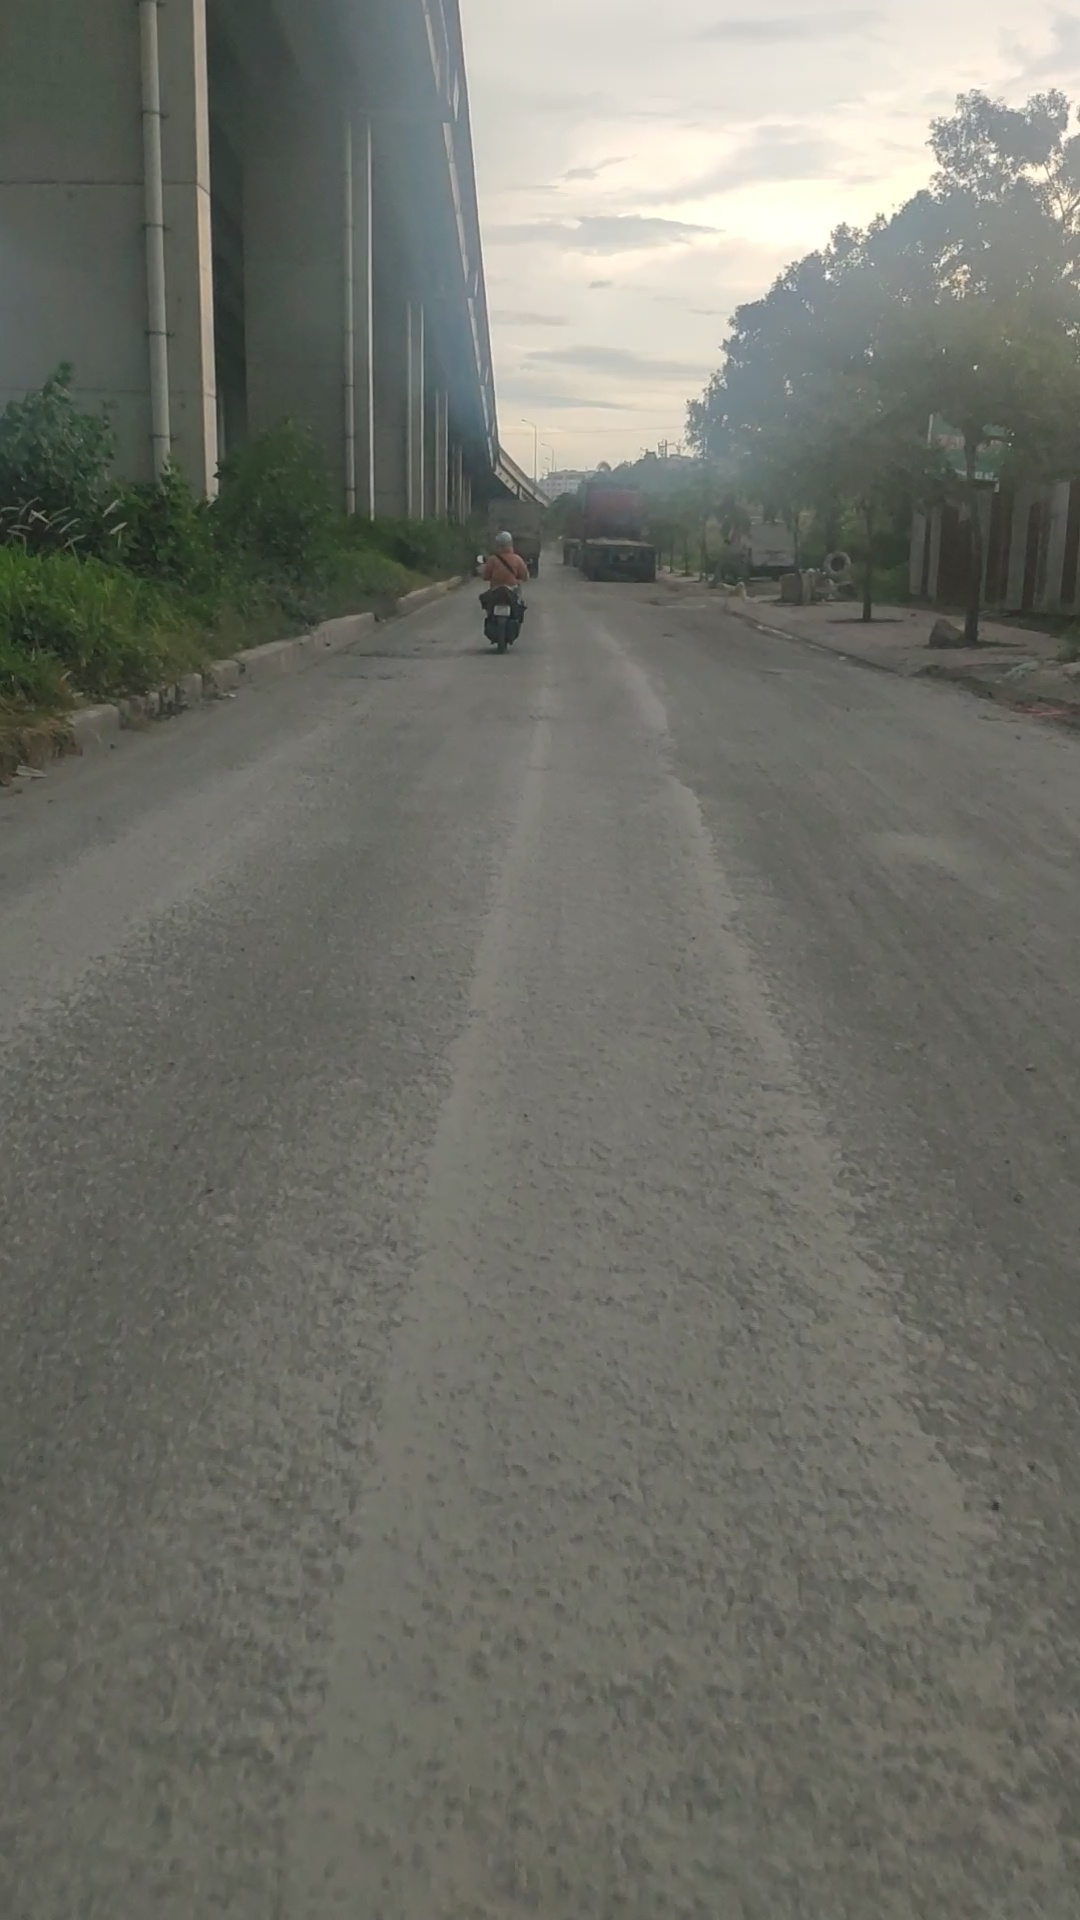hole: (348, 647, 462, 659), (338, 673, 400, 679)
